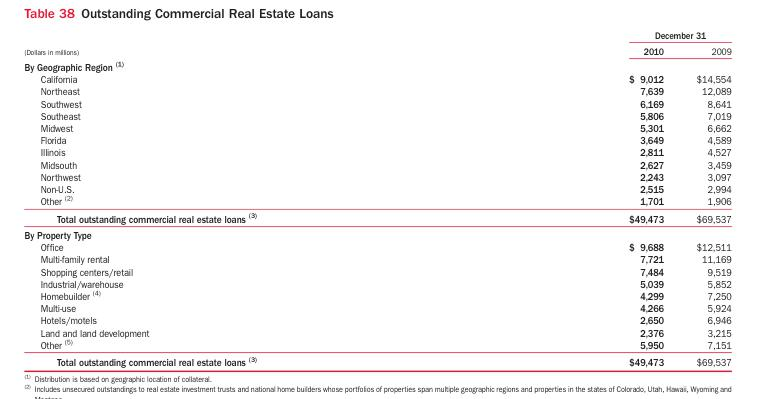table: (23, 28, 730, 368)
table column: (23, 28, 442, 368), (442, 28, 679, 368), (679, 28, 730, 368)
table column header: (23, 28, 730, 57)
table projected row header: (23, 57, 730, 72), (23, 226, 730, 240)
table row: (23, 208, 730, 226), (23, 352, 730, 368), (23, 42, 730, 57), (23, 57, 730, 72), (23, 337, 730, 352), (23, 28, 730, 42), (23, 194, 730, 208), (23, 226, 730, 240), (23, 84, 730, 97), (23, 145, 730, 158), (23, 240, 730, 253), (23, 288, 730, 301), (23, 313, 730, 326), (23, 72, 730, 84), (23, 97, 730, 109), (23, 109, 730, 121), (23, 121, 730, 133), (23, 133, 730, 145), (23, 158, 730, 170), (23, 170, 730, 182), (23, 182, 730, 194), (23, 253, 730, 265), (23, 265, 730, 277), (23, 301, 730, 313), (23, 277, 730, 288), (23, 326, 730, 337)
table spanning cell: (23, 28, 442, 57), (442, 28, 730, 42)
